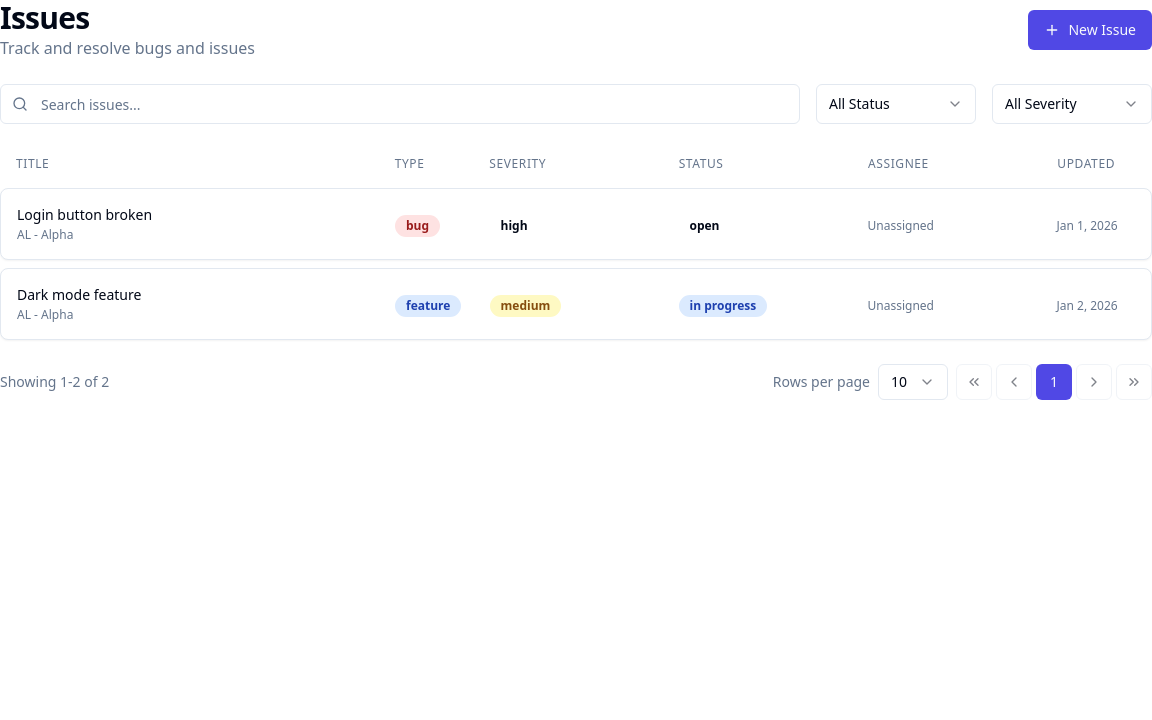
Test case: IssuesPage › should close create dialog on Cancel click
The image size is (1152, 720).
Check: the heading "Login button broken" is shown, box [17,205,152,224]
Click the button "New Issue": click(1090, 30) [1028,10,1151,50]
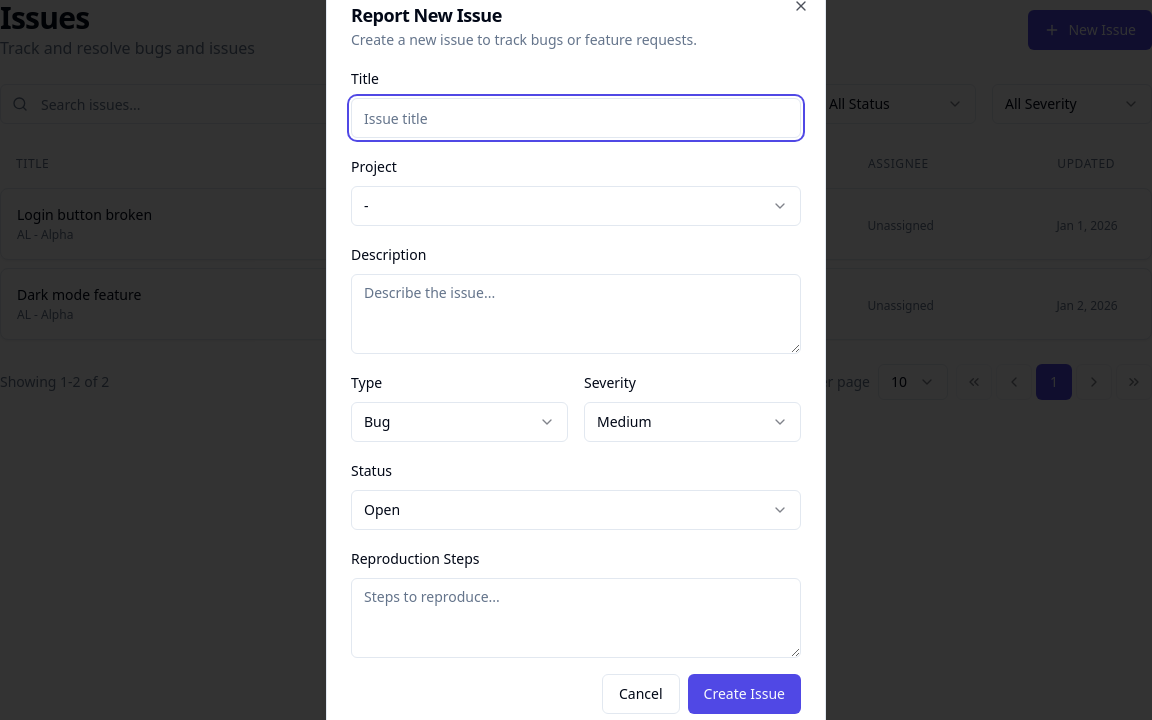
Check: the heading "Report New Issue" is shown, box [351,3,502,27]
Click the button "Cancel": click(641, 694) [602,674,680,714]
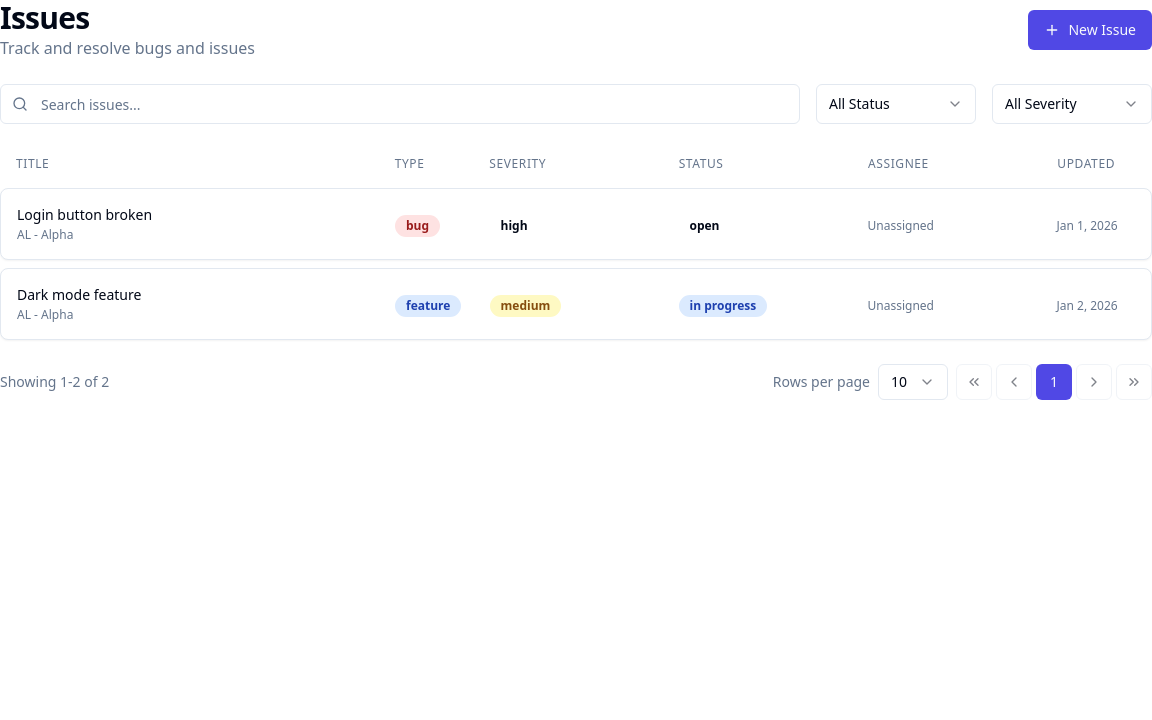
Check: the heading "Report New Issue" is gone
